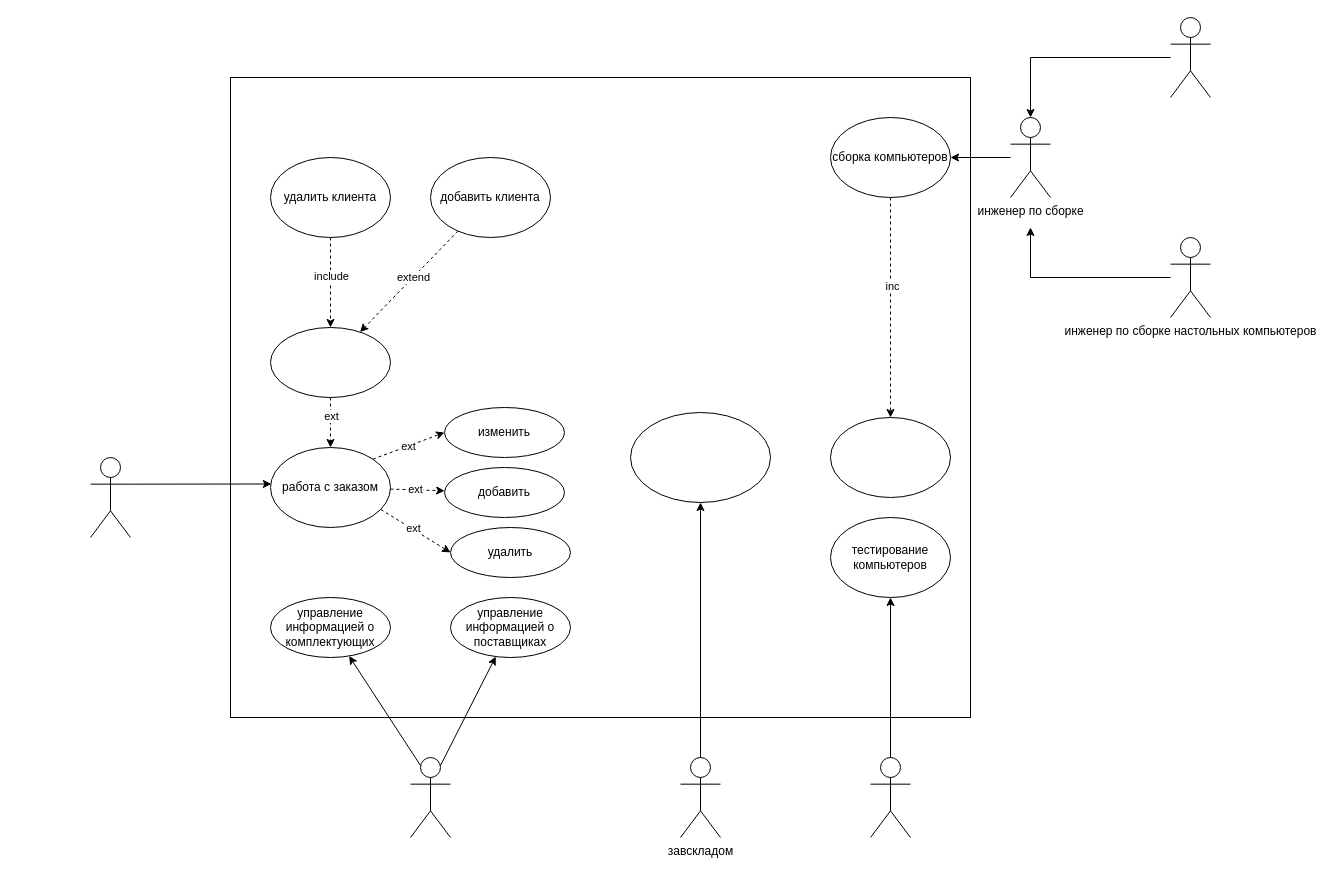
This 1334x876 diagram has some shape labels left out. Each missing label, with the centre of its shape:
"инженер по сборке ноутбуков" goes at [1190,57].
"инженер по тестированию" goes at [890,797].
"менеджер по работе с клиентами" goes at [110,497].
"менеджер по снабжению" goes at [430,797].
"требования необходимых комплектующих" goes at [890,457].
"управление информацией о клиенте" goes at [330,362].
"учёт поступления и выдачи комплектующих" goes at [700,457].
